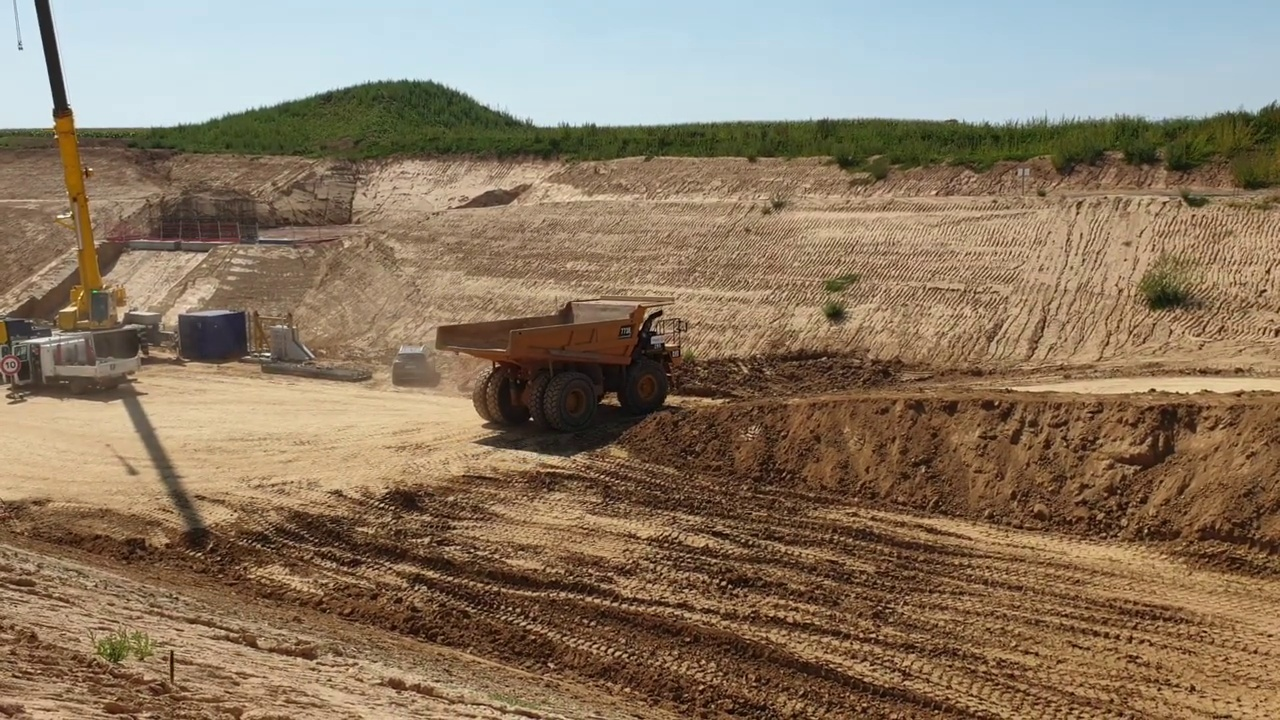crane: (1, 1, 147, 406)
truck: (435, 290, 690, 434)
